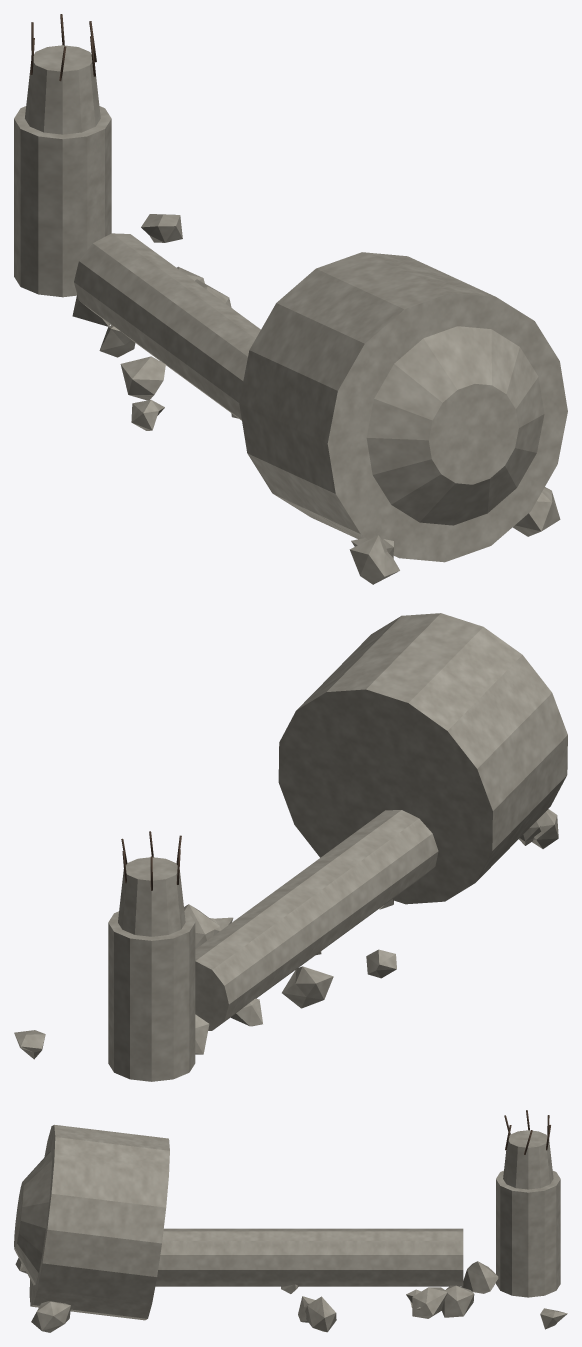
Rendered from water_tower.fbx.
The picture shows the model from 3 angles, top to bottom: view 1: azimuth 30°, elevation 25°; view 2: azimuth 150°, elevation 25°; view 3: azimuth 270°, elevation 25°; orthographic projection. The views are drawn at different scales.
Parts seen in each view (by area): view 1: WaterTower; view 2: WaterTower; view 3: WaterTower.
Boxes of the visible parts, x1=… form: WaterTower: x1=14, y1=14, x2=567, y2=584; WaterTower: x1=14, y1=613, x2=567, y2=1081; WaterTower: x1=14, y1=1110, x2=567, y2=1332.
Bounding box in the file's own units: 8.03 × 8.89 × 23.92.
